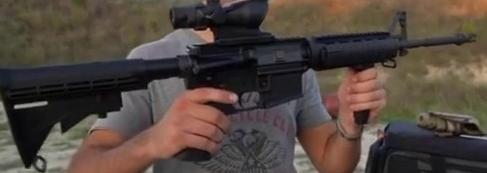gun: (1, 1, 487, 173)
